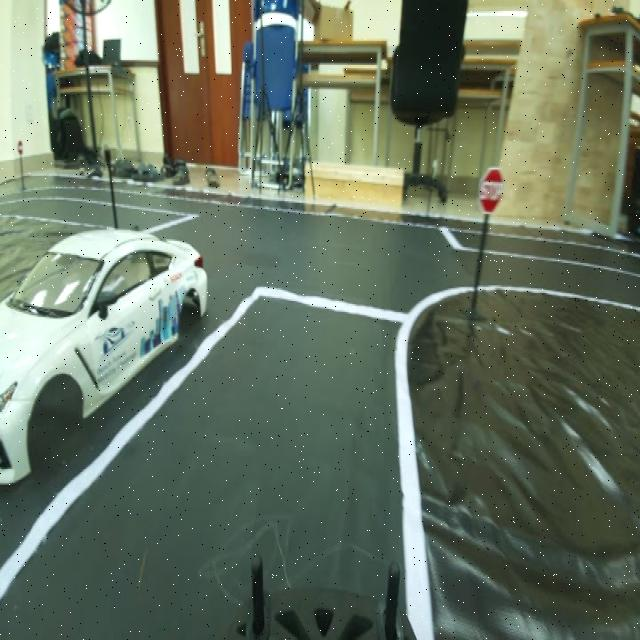car: (0, 168, 208, 455)
stop: (476, 161, 510, 218)
